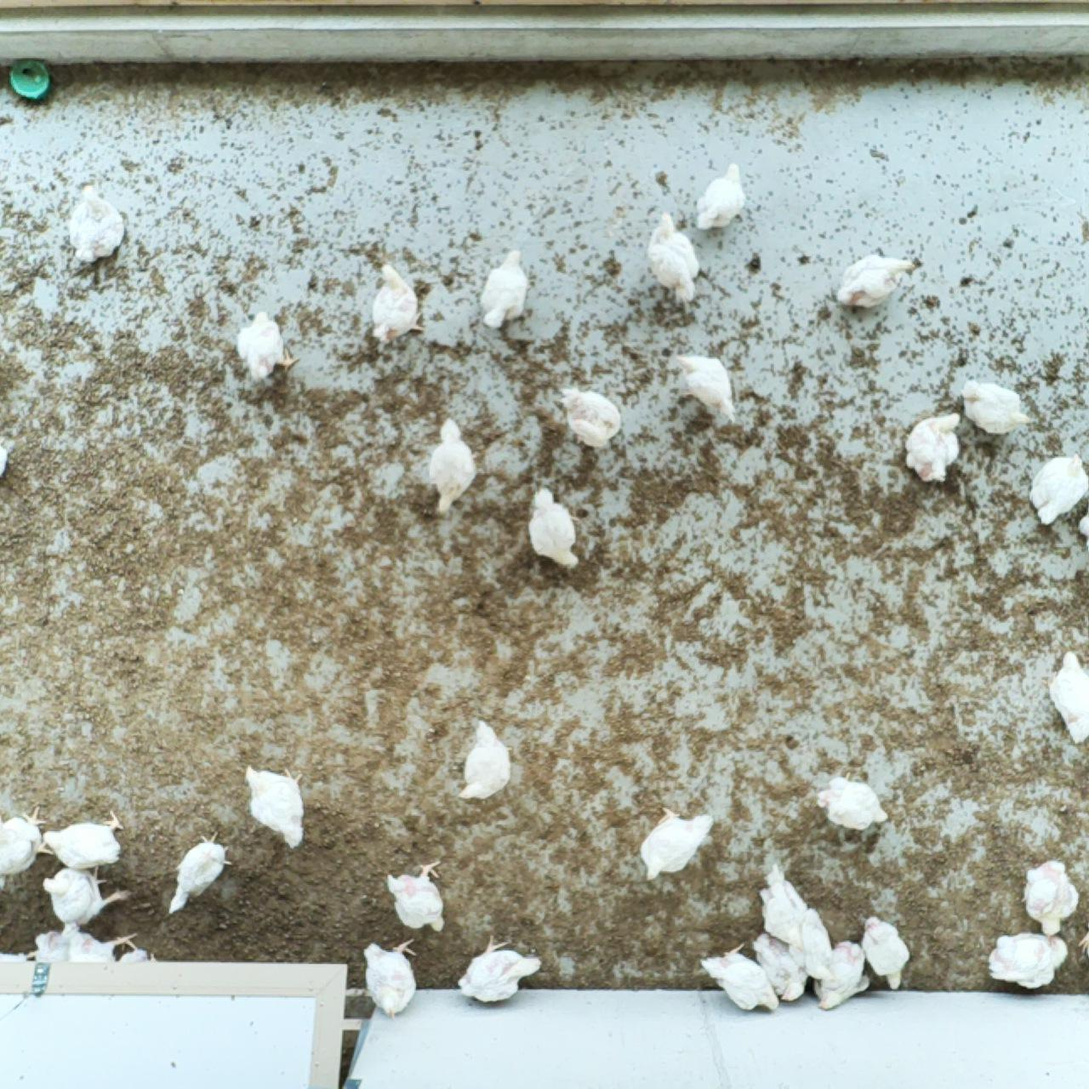chicken: (455, 932, 546, 1008), (639, 800, 718, 886), (165, 827, 236, 920), (38, 861, 135, 929), (240, 758, 310, 851), (831, 247, 921, 318), (698, 941, 780, 1018), (982, 926, 1071, 993), (383, 854, 454, 936), (452, 717, 517, 805), (366, 260, 430, 349), (644, 207, 702, 305), (425, 414, 480, 516), (1018, 854, 1081, 942), (42, 808, 128, 872), (671, 348, 742, 425), (361, 934, 423, 1021), (65, 181, 126, 269), (813, 767, 893, 832), (555, 380, 626, 453), (753, 861, 811, 950), (1040, 644, 1089, 749), (233, 307, 301, 382), (1027, 452, 1089, 533), (750, 926, 812, 1007), (902, 407, 965, 486), (526, 483, 582, 571), (809, 936, 873, 1013), (478, 245, 532, 335), (957, 374, 1034, 436), (860, 911, 914, 994), (693, 158, 750, 234), (0, 802, 56, 877), (788, 906, 837, 986), (65, 927, 141, 966), (24, 918, 80, 964)
